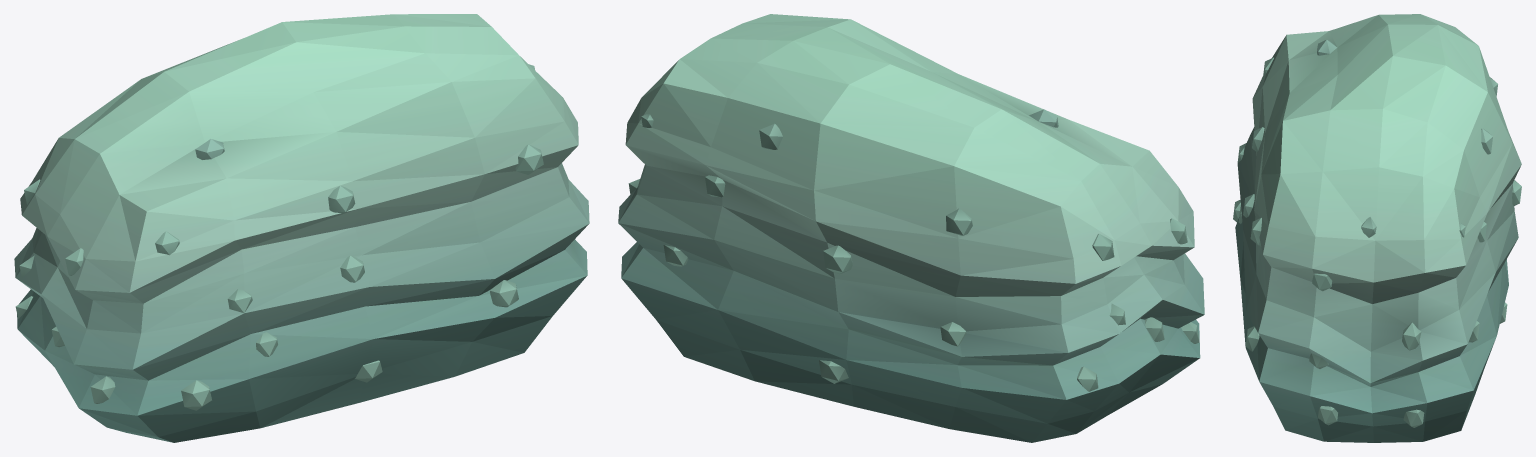
The model's file is bush_mound.glb.
The picture shows the model from 3 angles, left to right: view 1: azimuth 30°, elevation 25°; view 2: azimuth 150°, elevation 25°; view 3: azimuth 270°, elevation 25°; orthographic projection. The views are drawn at different scales.
Parts seen in each view (by area): view 1: Bush_1_2_D; view 2: Bush_1_2_D; view 3: Bush_1_2_D.
Part boxes in pixels (x1,y1,x2,y2): Bush_1_2_D: (14, 14, 589, 442); Bush_1_2_D: (618, 14, 1204, 442); Bush_1_2_D: (1233, 14, 1521, 442).
Bounding box in the file's own units: 1.83 × 1.03 × 0.913.
Materials: 1 (1 with a texture image).
